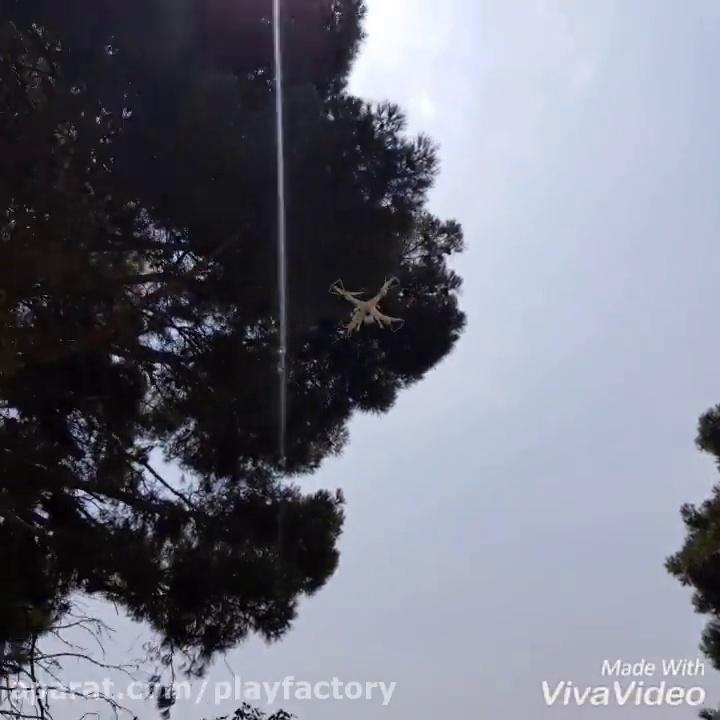drone: (327, 271, 410, 341)
